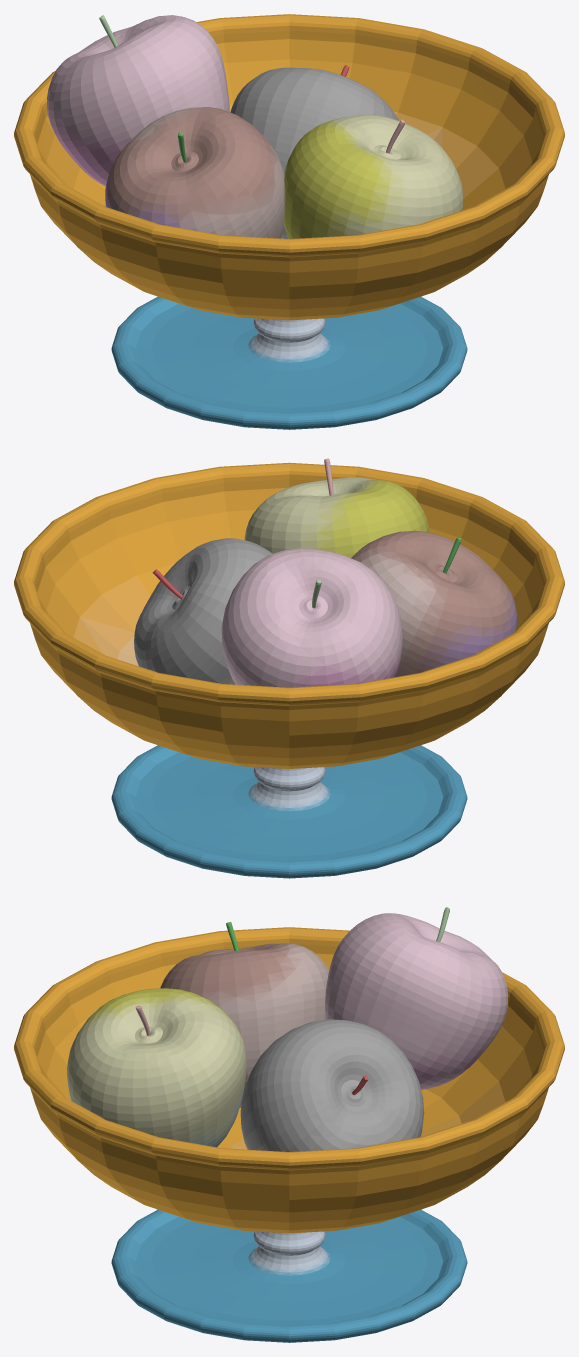
The picture shows the model from 3 angles, top to bottom: view 1: azimuth 30°, elevation 25°; view 2: azimuth 150°, elevation 25°; view 3: azimuth 270°, elevation 25°; orthographic projection.
Visible parts, largest first — view 1: world; view 2: world; view 3: world.
Boxes of the visible parts, x1=… form: world: x1=14, y1=14, x2=564, y2=429; world: x1=14, y1=458, x2=564, y2=878; world: x1=14, y1=907, x2=564, y2=1342.
Size of the model in its own units: 1.8 by 1.12 by 1.8.
